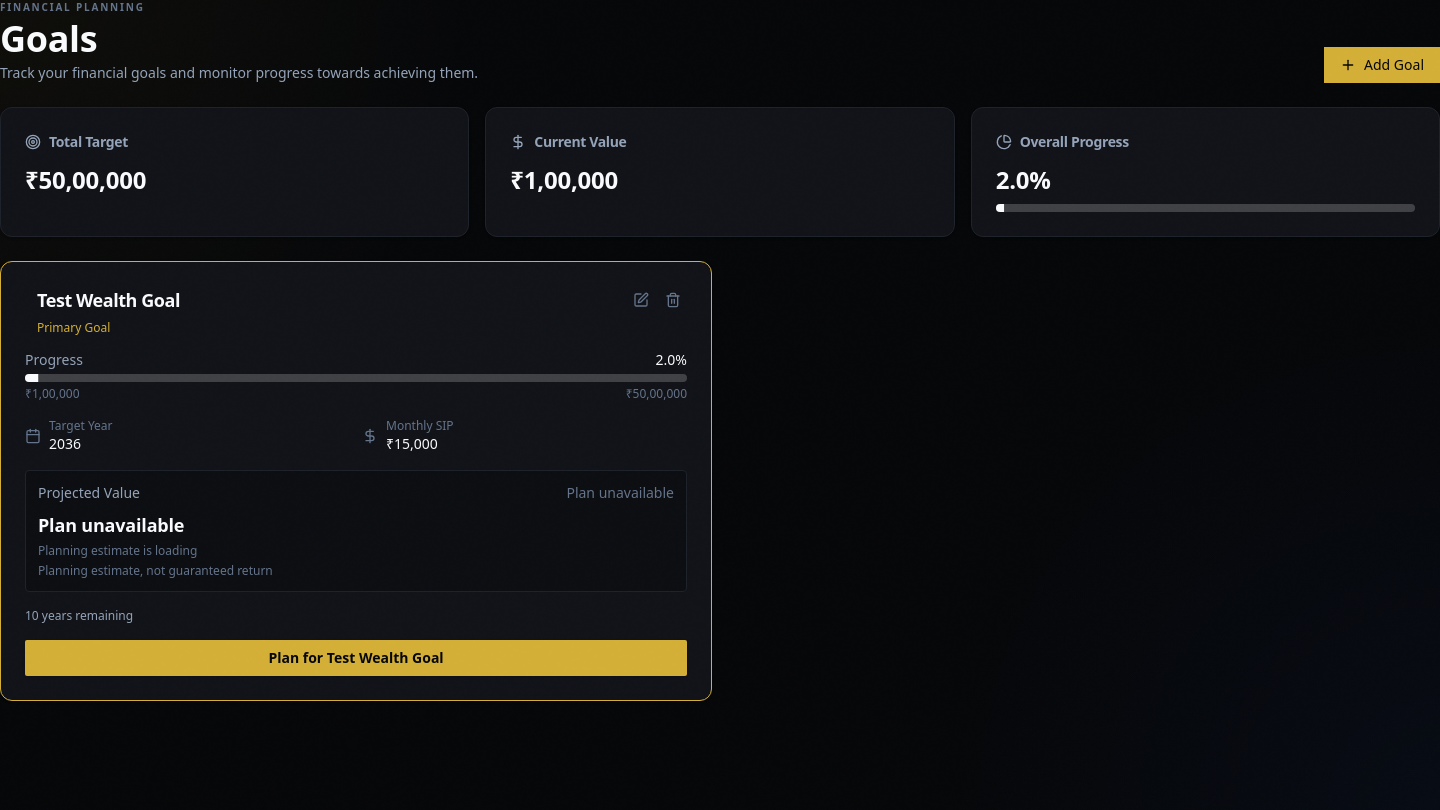
Scenario: Goals page — Load Eligible Stocks › an unverified-market-cap rejection is shown with its own distinct, actionable reason -- never mislabeled as a horizon mismatch
Click the button "Plan for Test Wealth Goal" at (356, 658), box [25, 640, 687, 676]
(page scrolled)
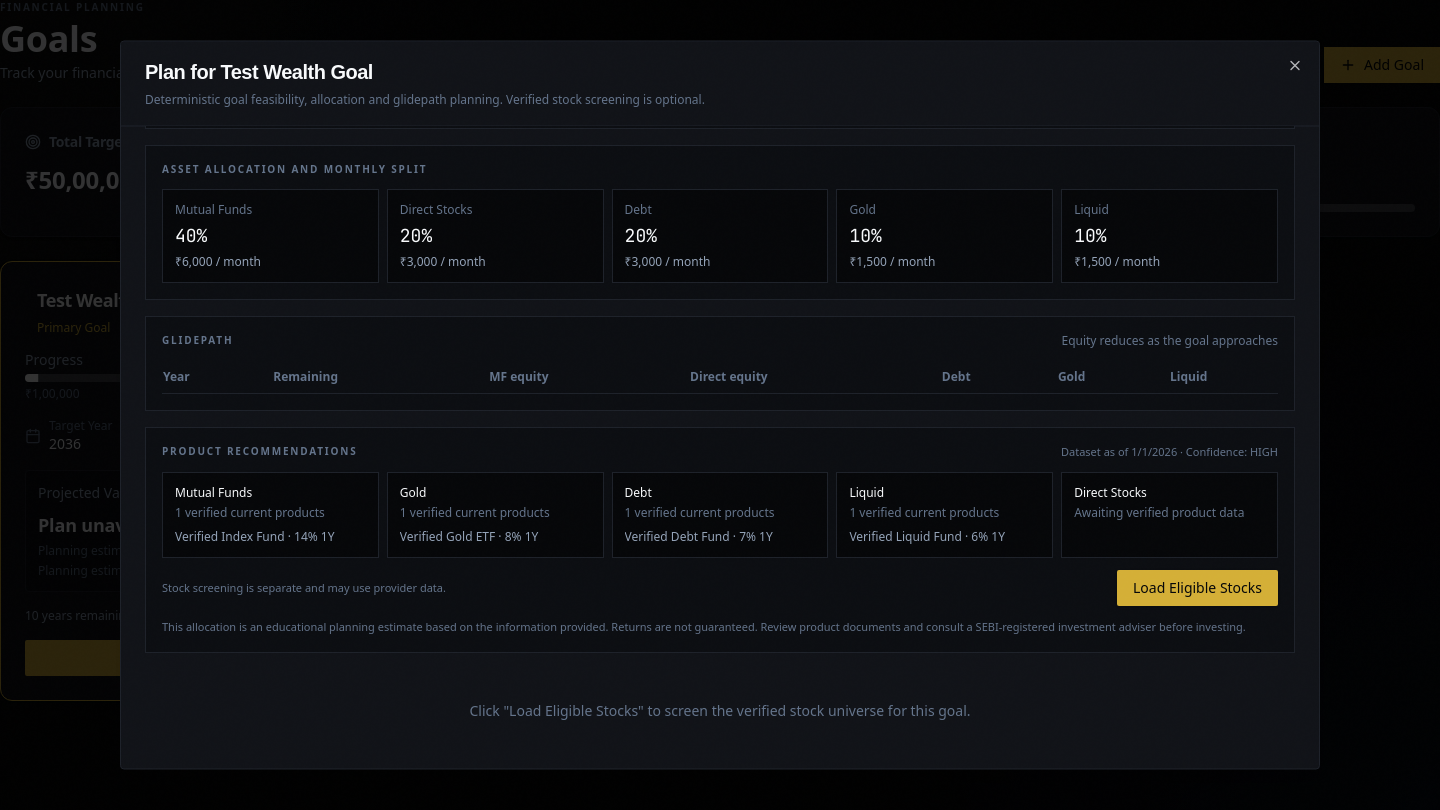
Now the button "Load Eligible Stocks" is shown
Click the button "Load Eligible Stocks" at (1198, 588), box [1117, 570, 1278, 606]
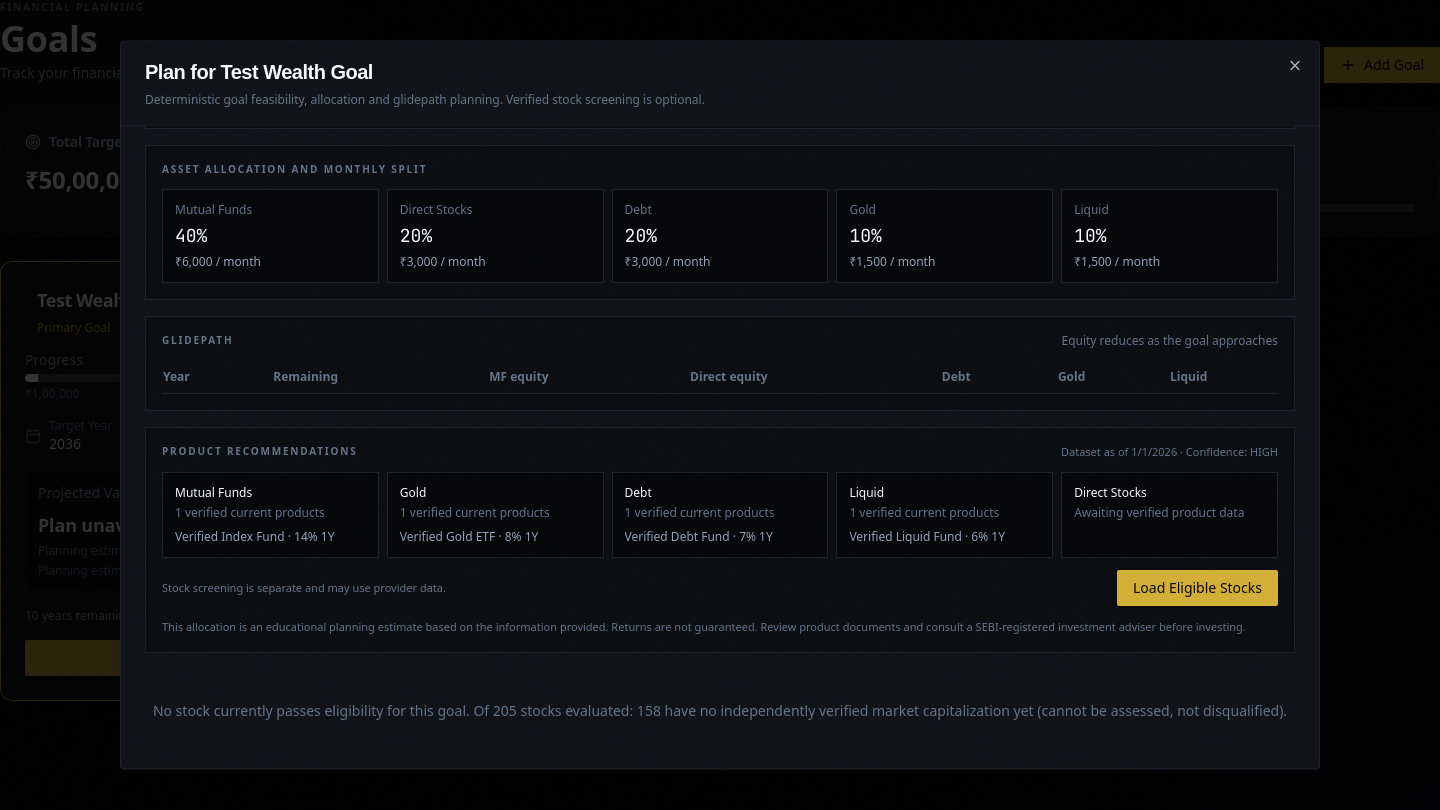
Now the button "Load Eligible Stocks" is enabled, box [1117, 570, 1278, 606]
Now the text "no independently verified market capitalization" is shown, box [153, 701, 1287, 720]
